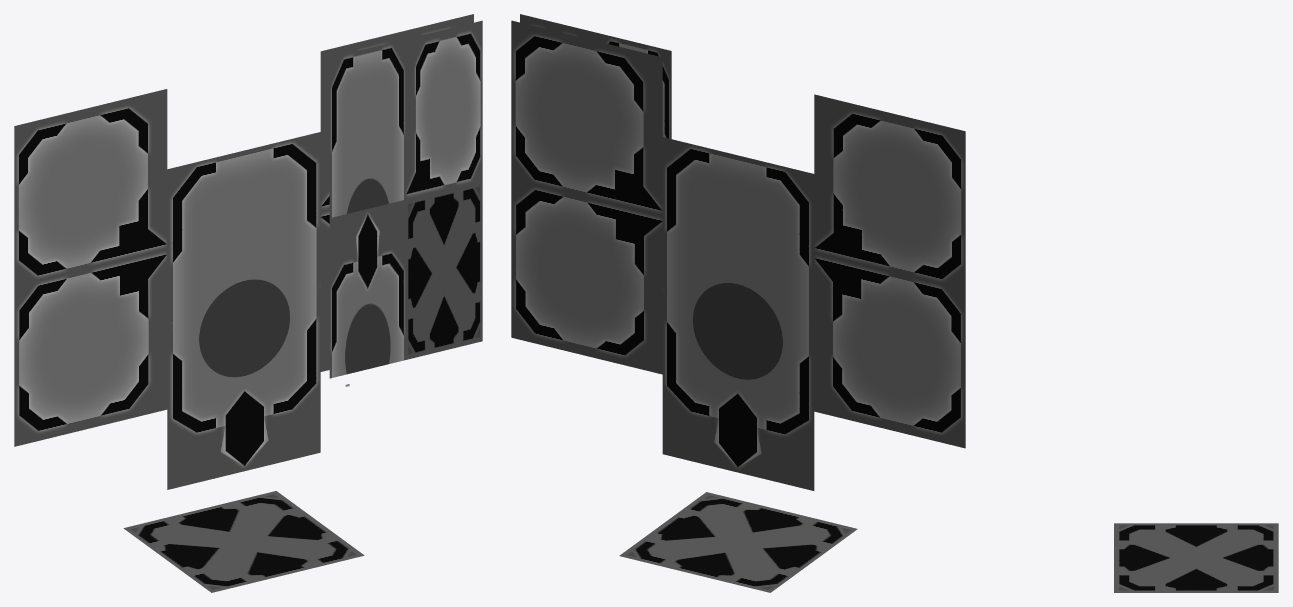
The model's file is Location_Gizmo.fbx.
3 views of the same model, side by side, from view 1: azimuth 30°, elevation 25°; view 2: azimuth 150°, elevation 25°; view 3: azimuth 270°, elevation 25° (orthographic). The views are drawn at different scales.
Visible parts, largest first — view 1: LocationBackground, CancelButtonIcon, CancelButton_Left, AcceptButtonIcon, AcceptButton_Left, LocationSelection, AcceptButton_Right, CancelButton_Right; view 2: LocationBackground, CancelButton_Right, AcceptButton_Left, AcceptButton_Right, CancelButton_Left, LocationSelection, AcceptButtonIcon; view 3: LocationSelection.
Boxes of the visible parts, left/top/right/bottom form: LocationBackground: left=167, top=132, right=320, bottom=489; CancelButtonIcon: left=329, top=181, right=482, bottom=378; CancelButton_Left: left=14, top=249, right=167, bottom=446; AcceptButtonIcon: left=329, top=20, right=482, bottom=217; AcceptButton_Left: left=14, top=89, right=167, bottom=286; LocationSelection: left=123, top=491, right=364, bottom=592; AcceptButton_Right: left=320, top=14, right=473, bottom=211; CancelButton_Right: left=320, top=209, right=329, bottom=371; LocationBackground: left=662, top=137, right=814, bottom=490; CancelButton_Right: left=511, top=179, right=662, bottom=374; AcceptButton_Left: left=814, top=94, right=965, bottom=289; AcceptButton_Right: left=511, top=20, right=662, bottom=215; CancelButton_Left: left=814, top=253, right=965, bottom=448; LocationSelection: left=619, top=492, right=857, bottom=592; AcceptButtonIcon: left=520, top=14, right=671, bottom=138; LocationSelection: left=1114, top=523, right=1278, bottom=592.
Size of the model in its own units: 300 by 294 by 173.
2 materials, 1 textured.
